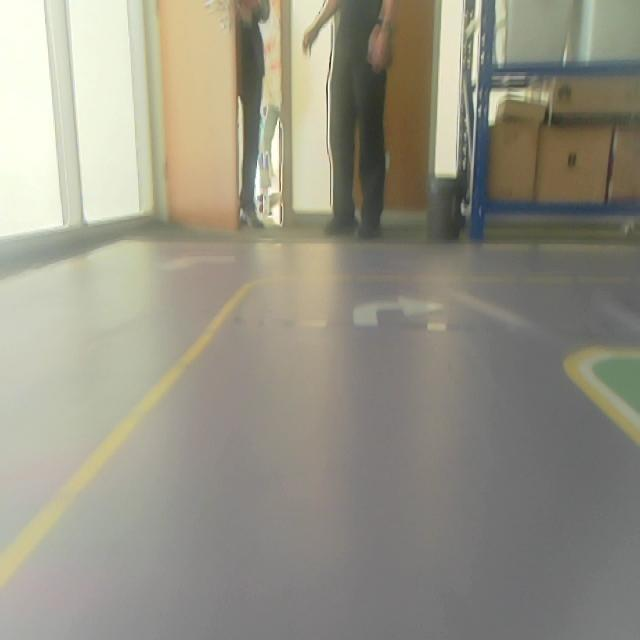left_lane: (0, 283, 249, 592)
right_lane: (565, 362, 640, 448)
